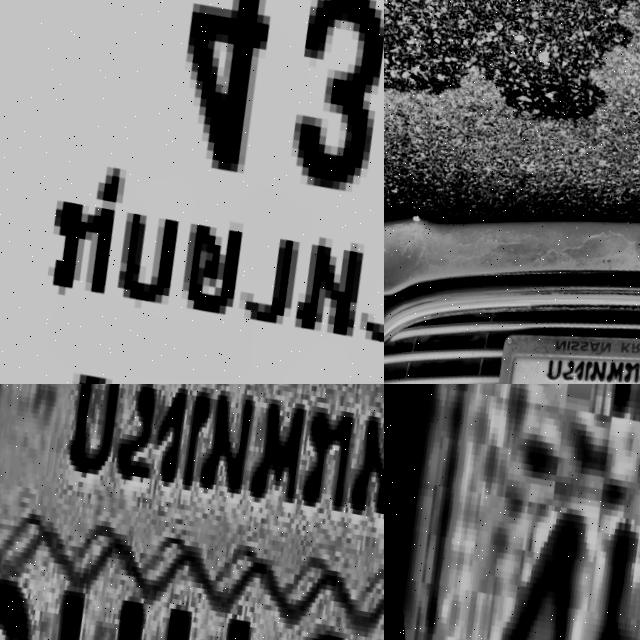license-plate: (0, 0, 384, 384), (0, 384, 384, 640), (384, 384, 640, 640), (458, 286, 640, 384)
